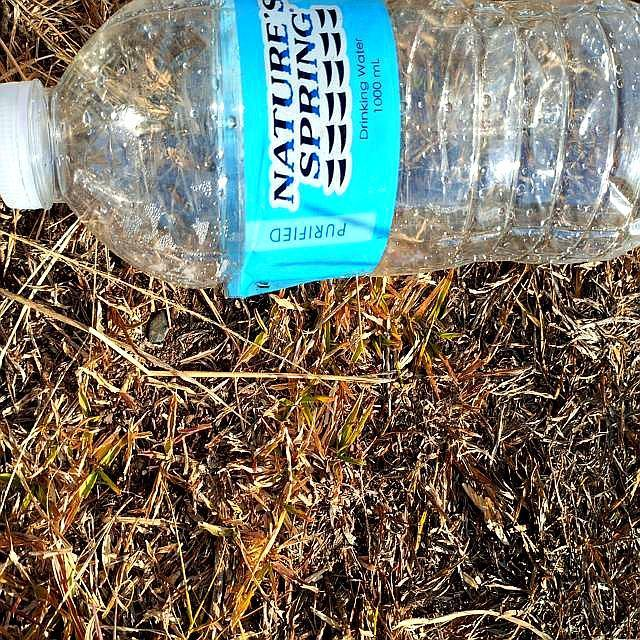Non-biodegradable: (1, 1, 640, 291)
